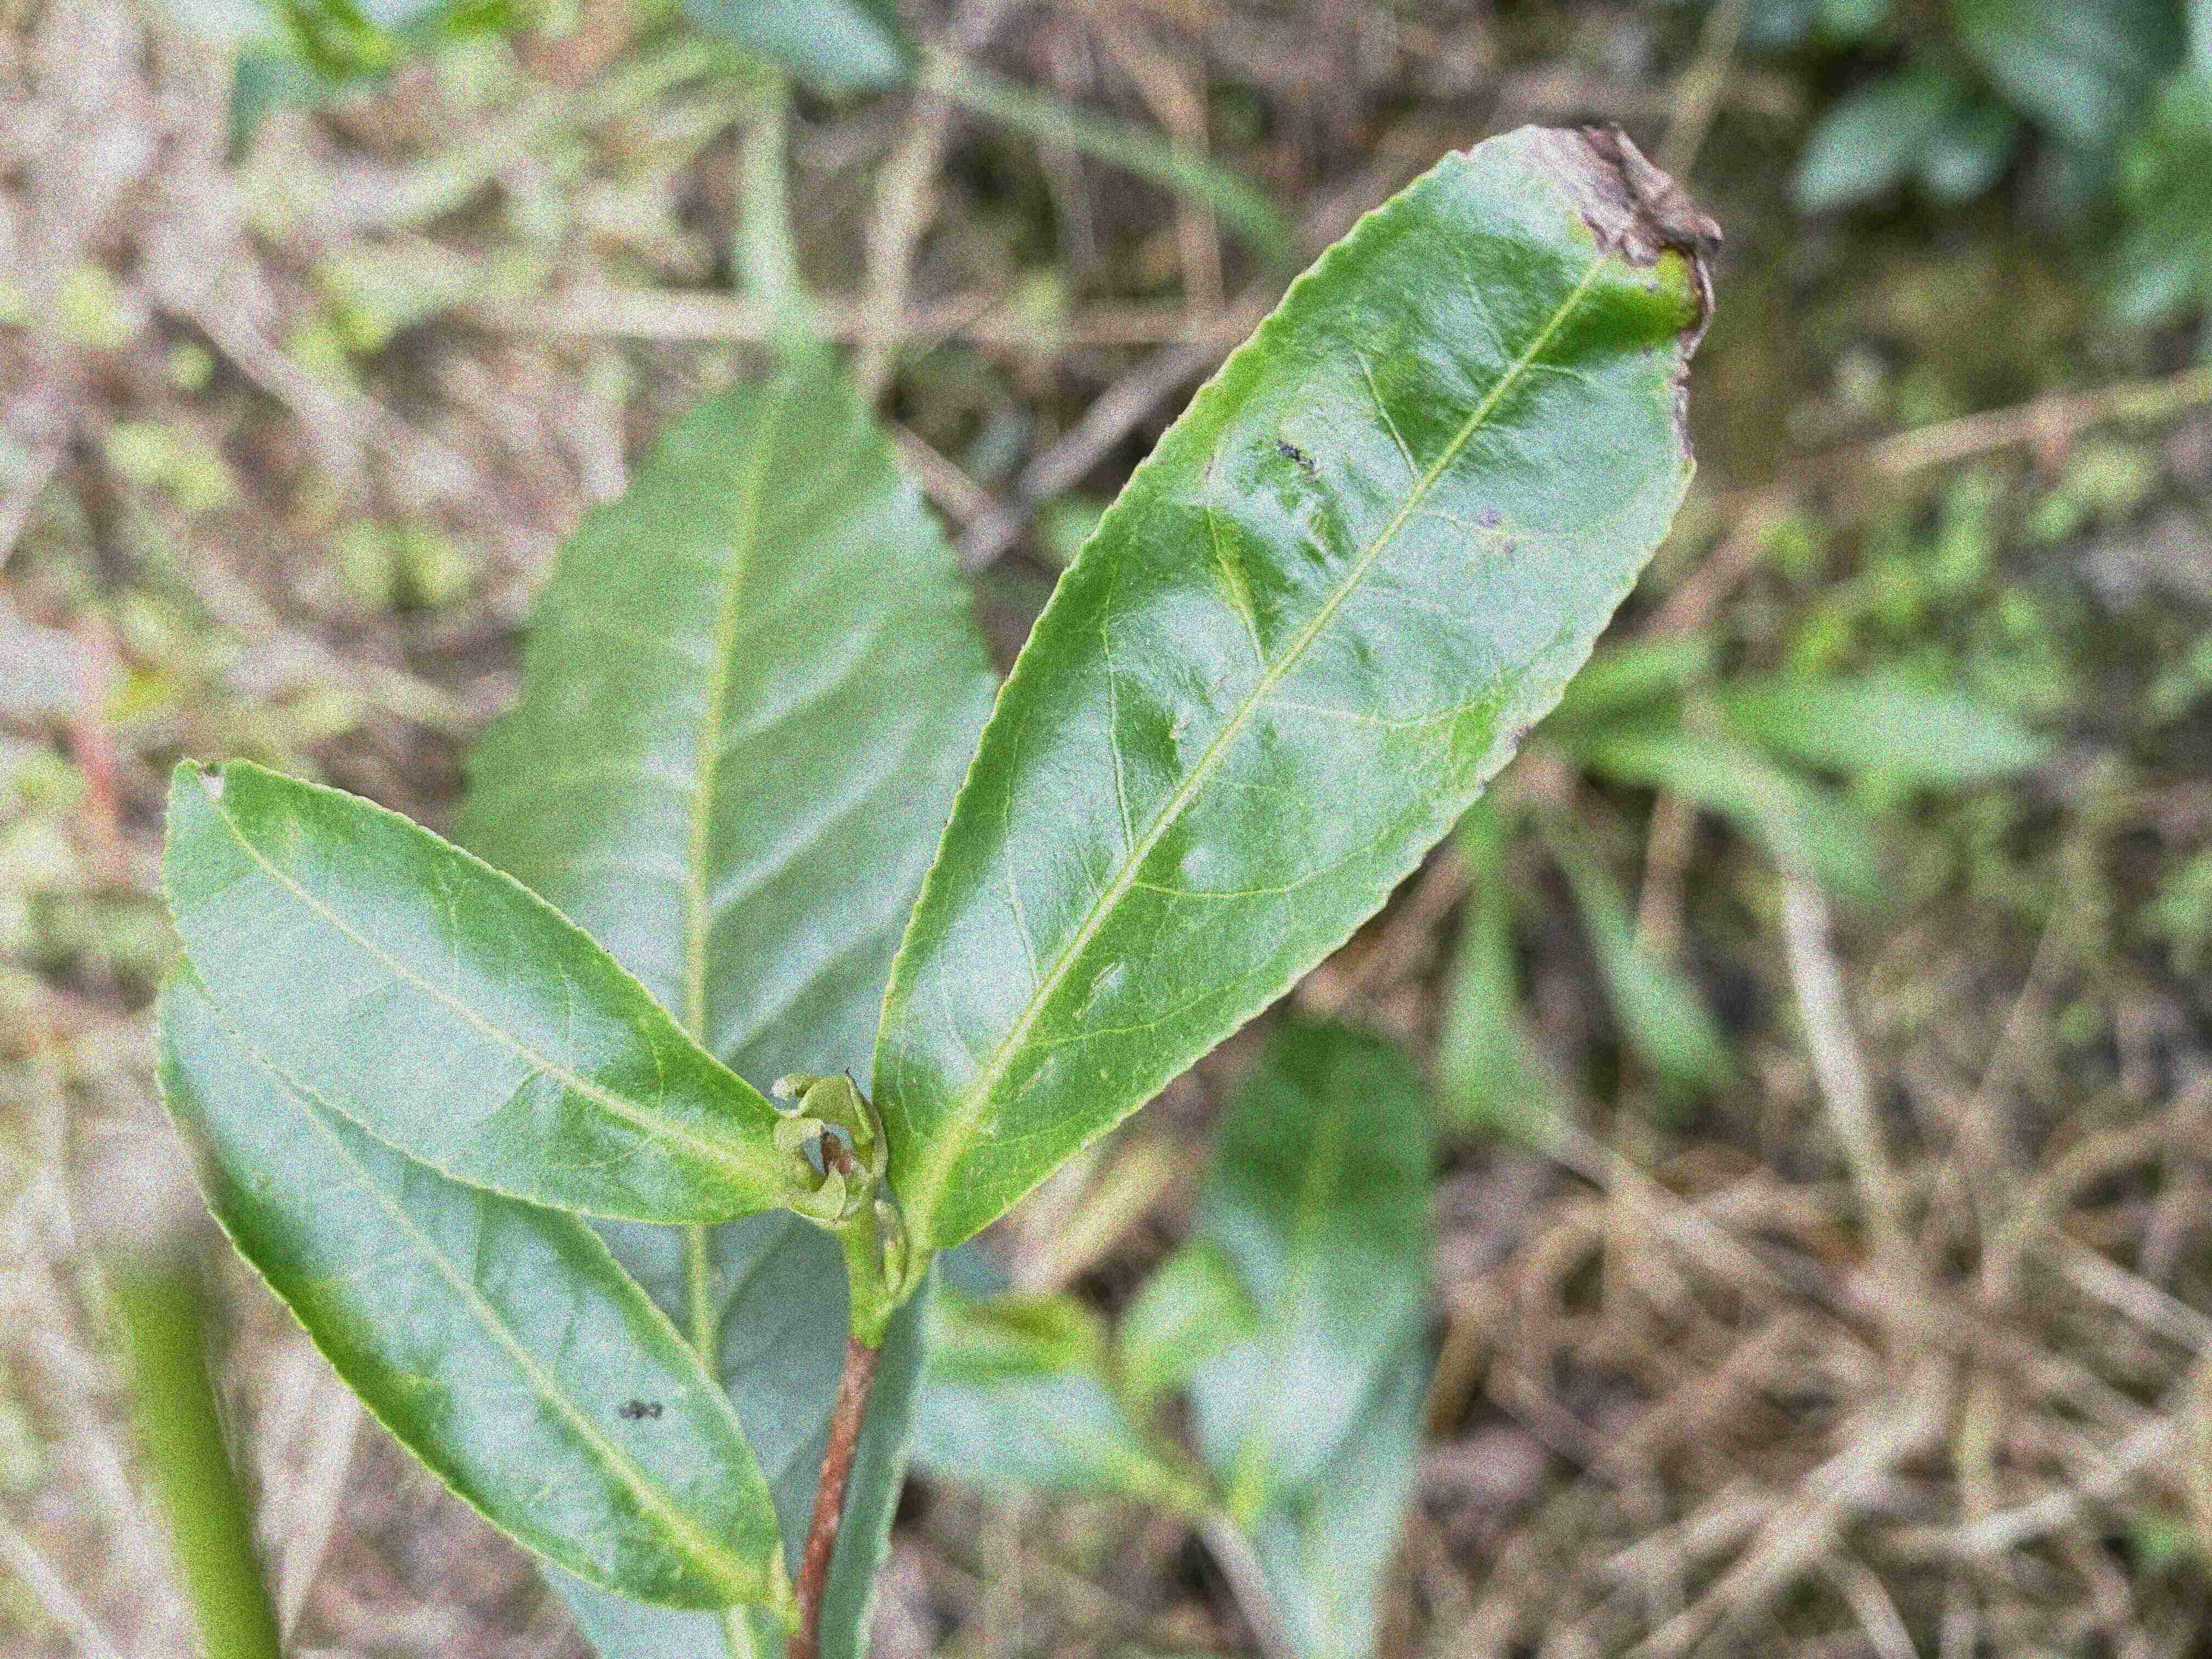tanju_high: (881, 113, 1724, 1255)
tanju_low: (157, 755, 789, 1225)
